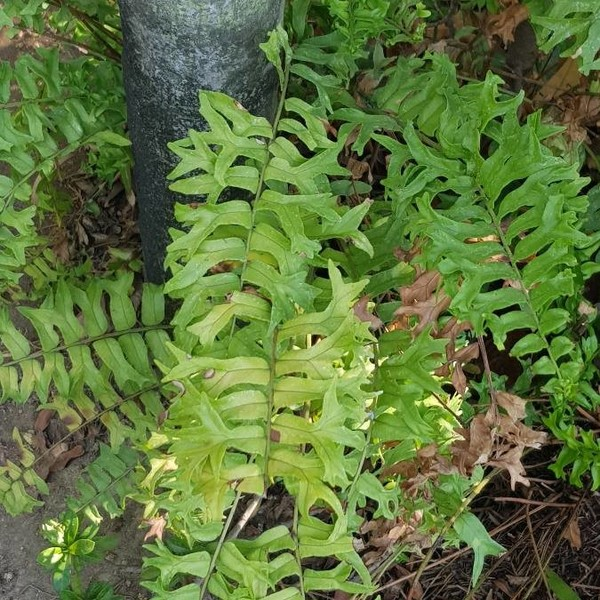obstacle: (98, 85, 553, 554)
